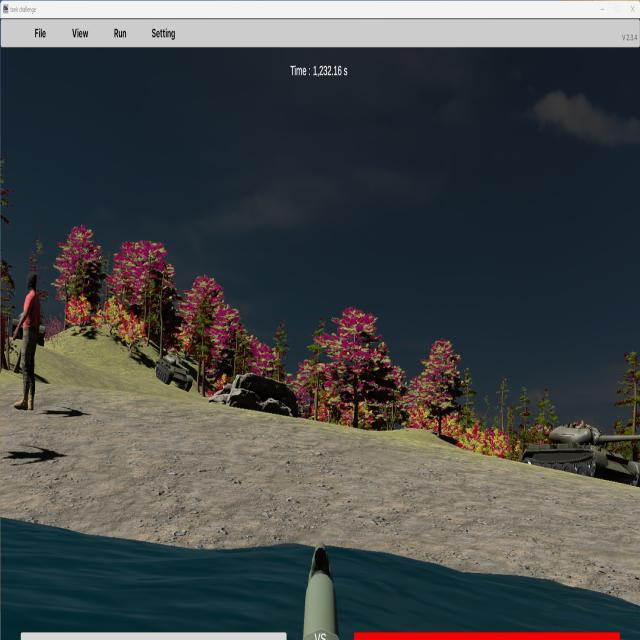Human: (13, 273, 40, 412)
Tank: (521, 423, 640, 490), (155, 351, 195, 391), (155, 352, 195, 391)
